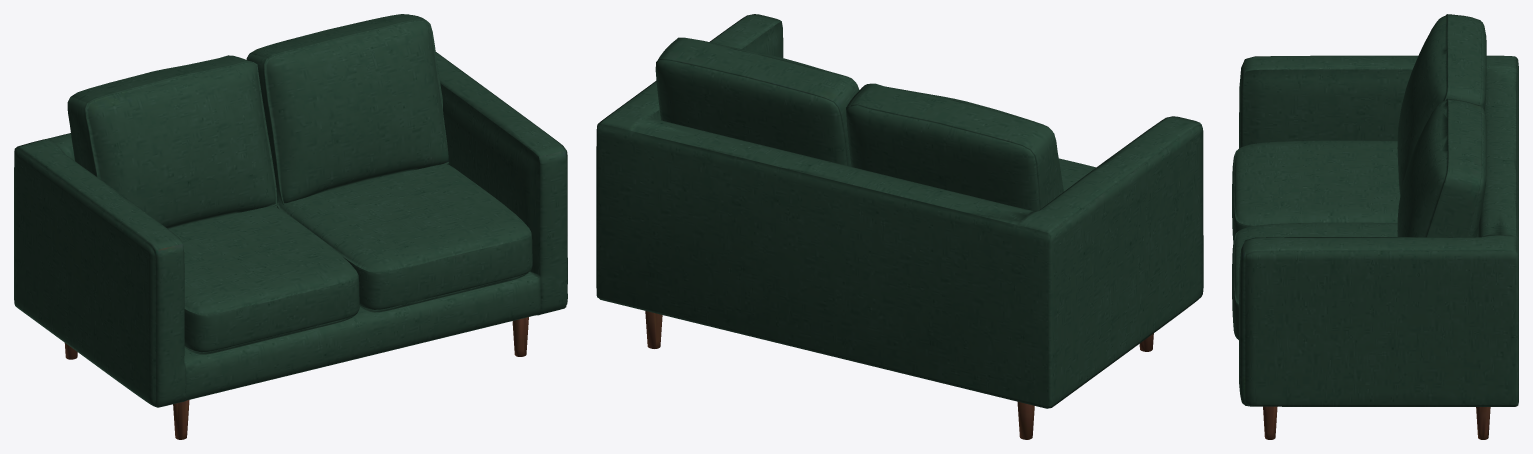
File: B07P8SRVPN.glb
3 views of the same model, side by side, from view 1: azimuth 30°, elevation 25°; view 2: azimuth 150°, elevation 25°; view 3: azimuth 270°, elevation 25° (orthographic). The views are drawn at different scales.
Parts seen in each view (by area): view 1: RootNode; view 2: RootNode; view 3: RootNode.
Part boxes in pixels (x1,y1,x2,y2): RootNode: (14,14,567,439); RootNode: (596,14,1203,439); RootNode: (1232,14,1518,439).
Bounding box in the file's own units: 1.43 × 0.8991 × 0.8788.
1 material, 1 textured.
